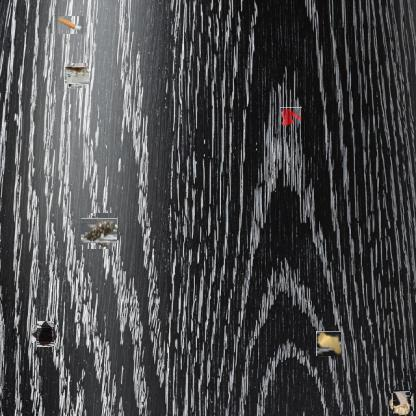dirty: (84, 216, 115, 246), (316, 331, 341, 356), (391, 392, 413, 414), (58, 16, 84, 34), (66, 65, 88, 86)
liquid: (34, 323, 56, 345), (280, 107, 302, 126)
